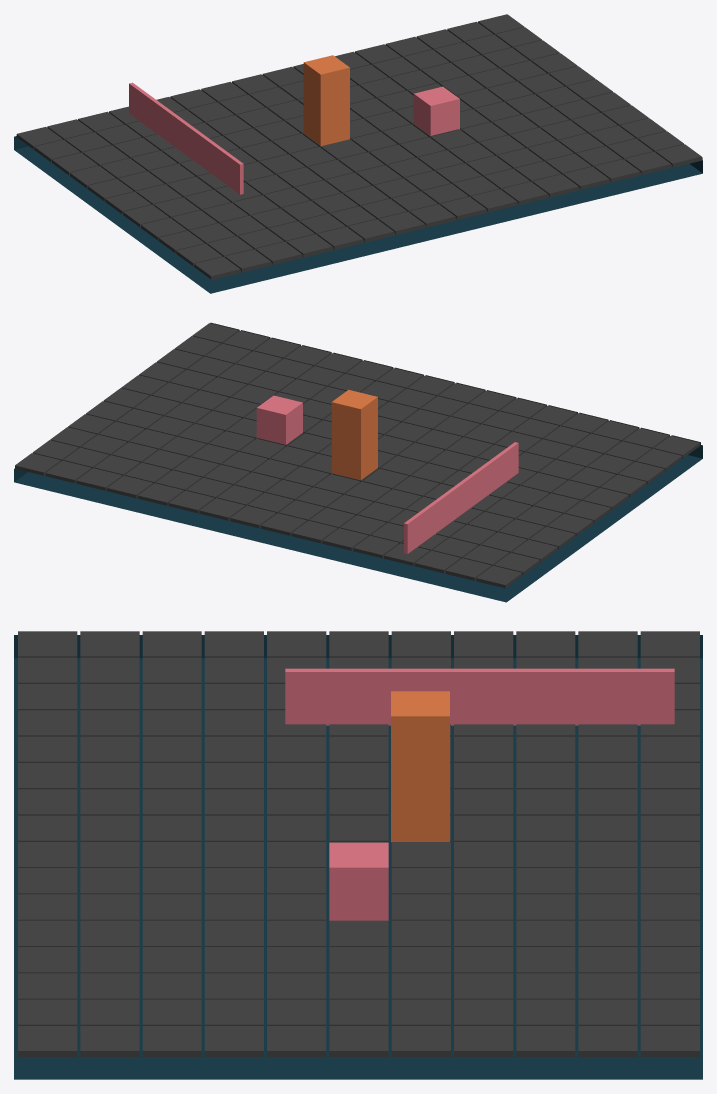
The model's file is test_level.glb.
3 views of the same model, one above another, from view 1: azimuth 30°, elevation 25°; view 2: azimuth 150°, elevation 25°; view 3: azimuth 270°, elevation 25° (orthographic). The views are drawn at different scales.
Parts seen in each view (by area): view 1: Cube.001, Plane, Cube.003, Cube.002, Cube; view 2: Cube.001, Plane, Cube.003, Cube.002, Cube; view 3: Cube.001, Plane, Cube.003, Cube.002, Cube.
Part boxes in pixels (x1,y1,x2,y2): Cube.001: (16,14,702,279); Plane: (14,136,702,293); Cube.003: (129,82,243,194); Cube.002: (303,55,349,146); Cube: (413,86,459,135); Cube.001: (15,322,700,588); Plane: (14,445,702,602); Cube.003: (404,442,518,553); Cube.002: (331,389,377,480); Cube: (256,395,302,444); Cube.001: (18,631,699,1056); Plane: (14,635,702,1079); Cube.003: (285,668,674,725); Cube.002: (391,691,449,842); Cube: (329,842,388,920).
Bounding box in the file's own units: 16.77 × 2.84 × 11.59.
